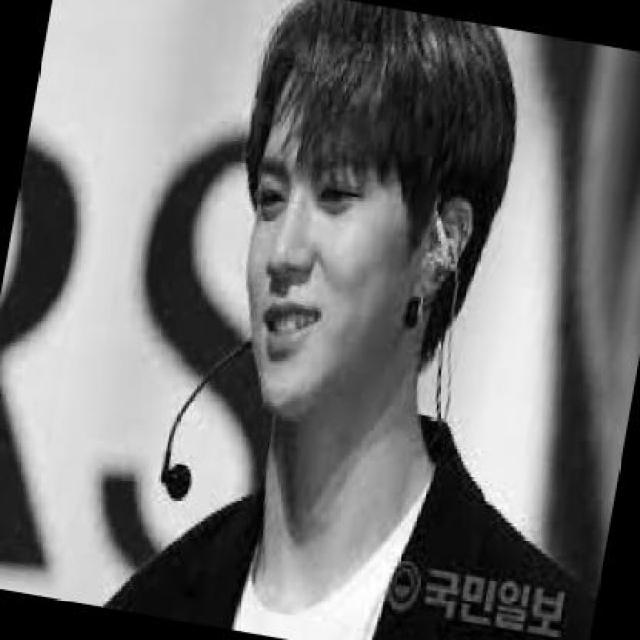earphone: (416, 212, 474, 286)
